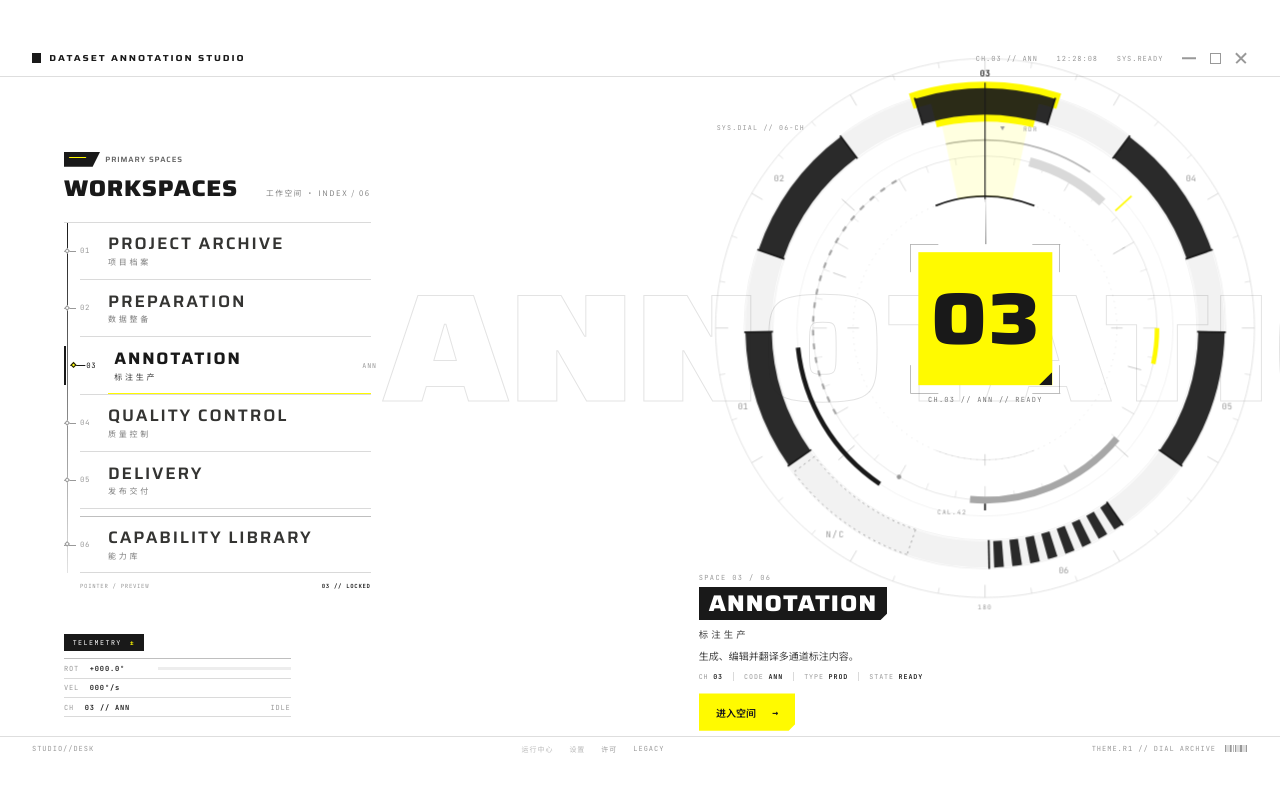
Test case: dial archive home page › moves the dial immediately but commits only the final stable pointer preview
Hover over the button with aria-label "预览并锁定空间 01 项目档案" at {"x": 225, "y": 251}, box left=80, top=223, right=371, bottom=280
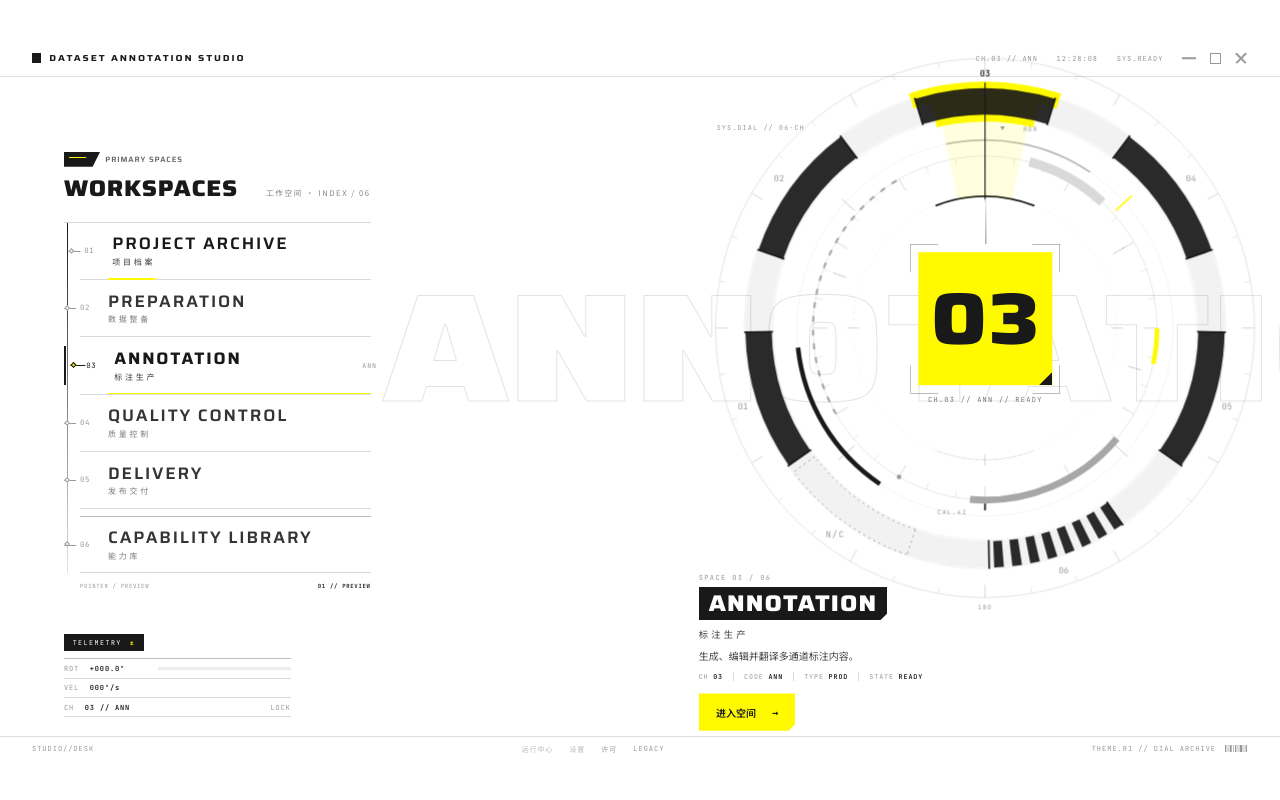
Check: the heading "Annotation" is shown, box left=699, top=587, right=887, bottom=620
Hover over the button with aria-label "预览并锁定空间 02 数据整备" at {"x": 225, "y": 309}, box left=80, top=280, right=371, bottom=337
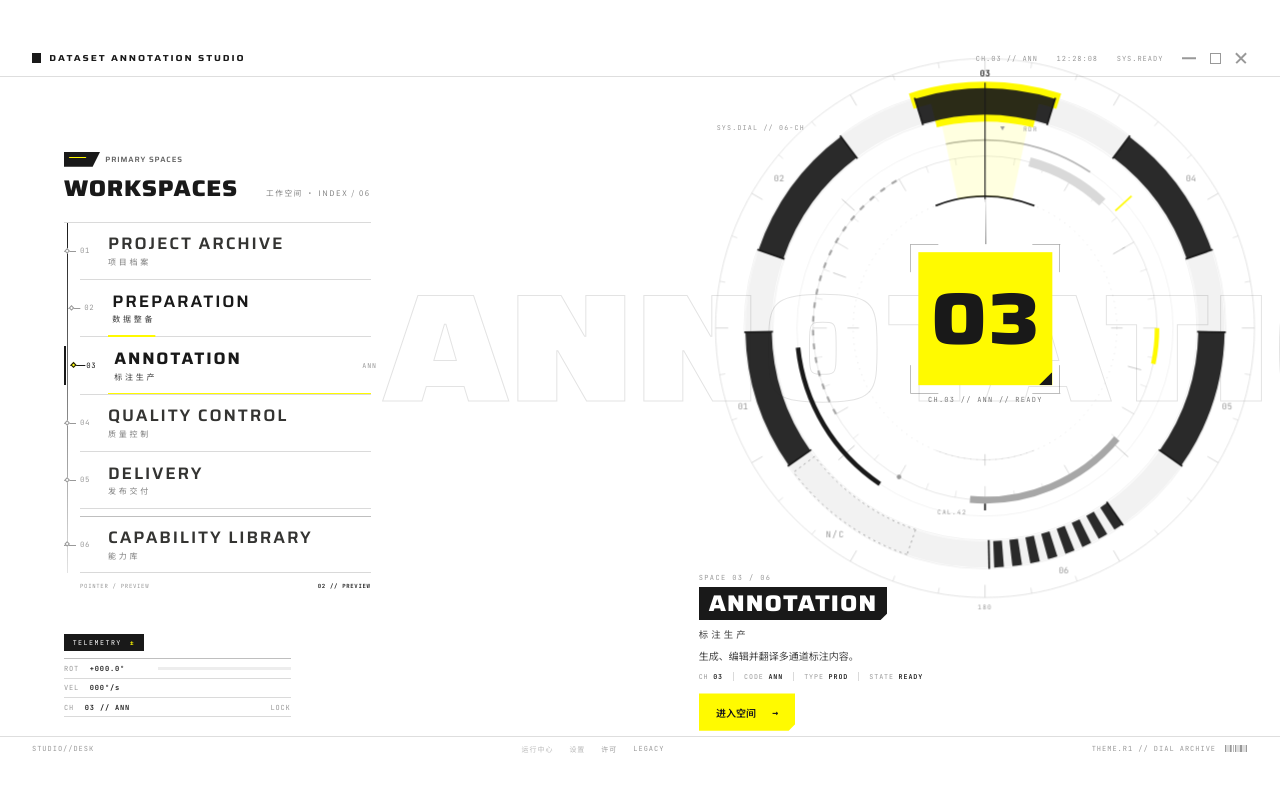
Hover over the button with aria-label "预览并锁定空间 04 质量控制" at {"x": 225, "y": 423}, box left=80, top=395, right=371, bottom=452
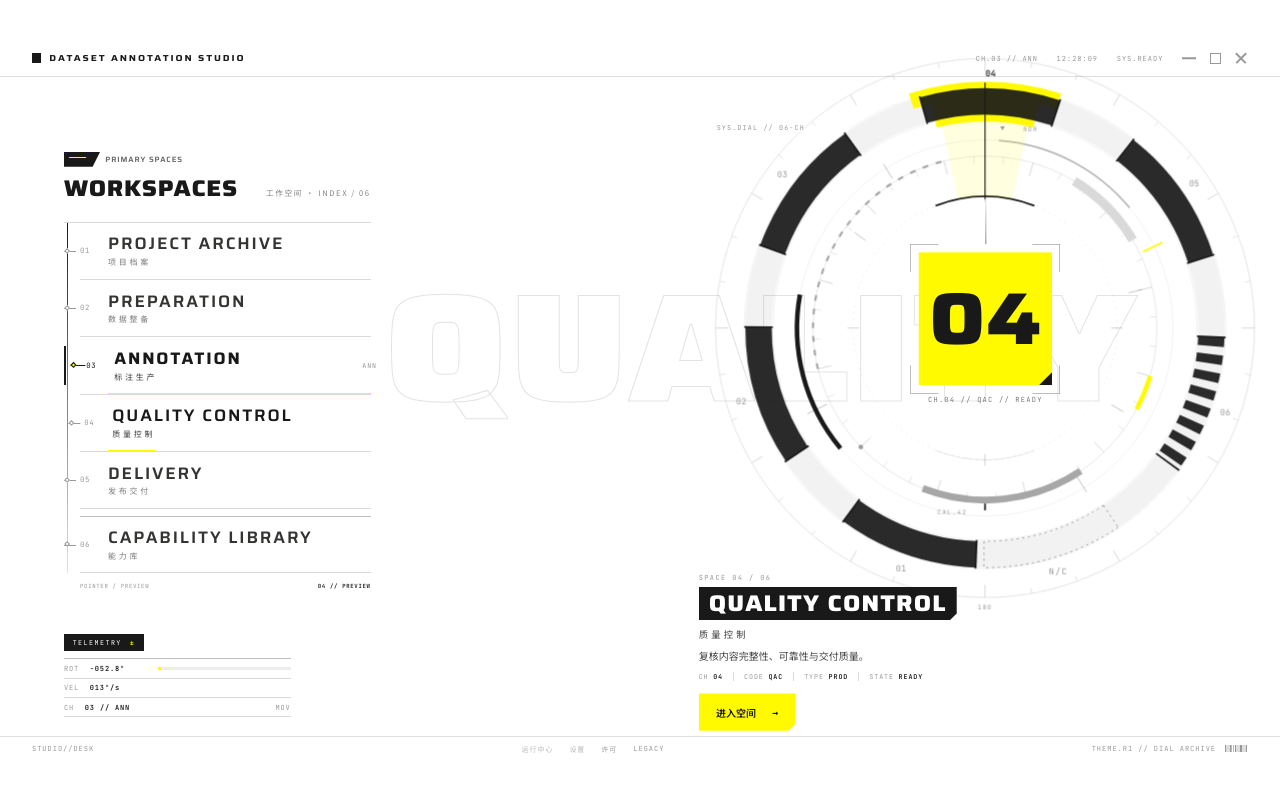
Check: the heading "Quality Control" is shown, box left=699, top=587, right=957, bottom=620
